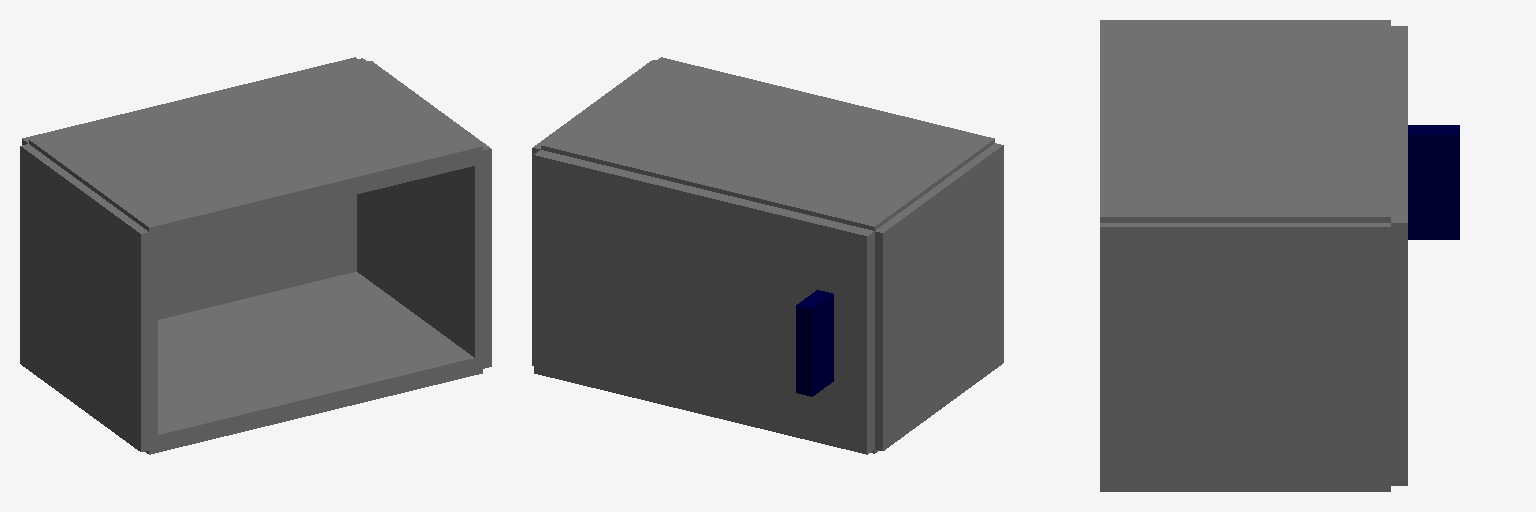
The robot description file, URDF, robot "microwave.urdf":
<?xml version="1.0" ?>
<robot name="microwave.urdf">
  <material name="Light Grey">
    <color rgba=".5 .5 .5 1"/>
  </material>
  <material name="Navy Blue">
    <color rgba="0 0 .3 1"/>
  </material>
  <link name="base_link">
    <contact>
      <lateral_friction value="1.0"/>
    </contact>
    <inertial>
      <origin rpy="0 0 0" xyz="0 0 0"/>
      <mass value=".0"/>
      <inertia ixx="1" ixy="0" ixz="0" iyy="1" iyz="0" izz="1"/>
    </inertial>
    <visual>
      <origin rpy="0 0 0" xyz=".2 0 0"/>
      <geometry>
				<box size=".02 .25 .25"/>
      </geometry>
      <material name="Light Grey"/>
    </visual>
    <collision>
      <origin rpy="0 0 0" xyz=".2 0 0"/>
      <geometry>
				<box size=".02 .25 .25"/>
      </geometry>
    </collision>

    <visual>
      <origin rpy="0 0 0" xyz="-.2 0 0"/>
      <geometry>
				<box size=".02 .25 .25"/>
      </geometry>
      <material name="Light Grey"/>
    </visual>
    <collision>
      <origin rpy="0 0 0" xyz="-.2 0 0"/>
      <geometry>
				<box size=".02 .25 .25"/>
      </geometry>
    </collision>

    <visual>
      <origin rpy="0 0 0" xyz="0 0 .12"/>
      <geometry>
				<box size=".4 .25 .02"/>
      </geometry>
      <material name="Light Grey"/>
    </visual>
    <collision>
      <origin rpy="0 0 0" xyz="0 0 .12"/>
      <geometry>
				<box size=".4 .25 .02"/>
      </geometry>
    </collision>

    <visual>
      <origin rpy="0 0 0" xyz="0 0 -.12"/>
      <geometry>
				<box size=".4 .25 .02"/>
      </geometry>
      <material name="Light Grey"/>
    </visual>
    <collision>
      <origin rpy="0 0 0" xyz="0 0 -.12"/>
      <geometry>
				<box size=".4 .25 .02"/>
      </geometry>
    </collision>
  </link>
  <link name="door_link">
    <contact>
      <lateral_friction value="1.0"/>
    </contact>
    <inertial>
      <origin rpy="0 0 0" xyz="0 0 0"/>
      <mass value=".0"/>
      <inertia ixx="1" ixy="0" ixz="0" iyy="1" iyz="0" izz="1"/>
    </inertial>
    <visual>
      <origin rpy="0 0 0" xyz="-.2 .03 0"/>
      <geometry>
				<box size=".4 .02 .25"/>
      </geometry>
      <material name="Light Grey"/>
    </visual>
    <collision>
      <origin rpy="0 0 0" xyz="-.2 .03 0"/>
      <geometry>
				<box size=".4 .02 .25"/>
      </geometry>
    </collision>
  </link>
  <link name="handle_link">
    <visual>
      <origin rpy="0 0 0" xyz="-.35 .05 0"/>
      <geometry>
				<box size=".02 .07 .1"/>
      </geometry>
      <material name="Navy Blue"/>
    </visual>
    <collision>
      <origin rpy="0 0 0" xyz="-.35 .05 0"/>
      <geometry>
				<box size=".02 .07 .1"/>
      </geometry>
    </collision>
  </link>
  <joint name="hinge" type="revolute">
    <parent link="base_link"/>
    <child link="door_link"/>
    <origin xyz=".2 .1 0" rpy="0 0 0"/>
    <axis xyz="0 0 1"/>
    <limit lower="-1.7" upper="0" effort="100" velocity="100"/>
  </joint>
  <joint name="handle" type="fixed">
    <parent link="door_link"/>
    <child link="handle_link"/>
    <origin xyz="0 0 0" rpy="0 0 0"/>
  </joint>
</robot>

--- What the picture shows (computed from the rendered views, not written in the file) ---
The picture shows the robot from 3 angles, left to right: view 1: azimuth 30°, elevation 25°; view 2: azimuth 150°, elevation 25°; view 3: azimuth 270°, elevation 25°; orthographic projection.
Robot: microwave.urdf — 3 links, 2 joints (1 revolute, 1 fixed); root link base_link; default pose: every joint at zero.
Links seen in each view (by area): view 1: base_link, door_link; view 2: door_link, base_link, handle_link; view 3: base_link, door_link, handle_link.
Boxes of the visible links, bbox=[...] form: base_link: bbox=[20, 58, 491, 454]; door_link: bbox=[22, 57, 356, 319]; door_link: bbox=[534, 150, 874, 454]; base_link: bbox=[532, 57, 1003, 453]; handle_link: bbox=[796, 290, 833, 396]; base_link: bbox=[1100, 20, 1390, 491]; door_link: bbox=[1391, 26, 1407, 485]; handle_link: bbox=[1408, 125, 1459, 239].
Bounding box of the posed robot: 0.42 × 0.31 × 0.26 m (x, y, z).
Geometry: primitives only (box / cylinder / sphere), no mesh files.